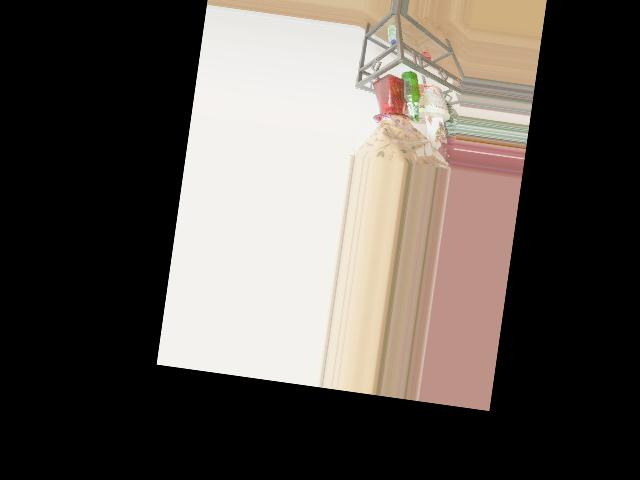beer: (396, 70, 425, 122)
